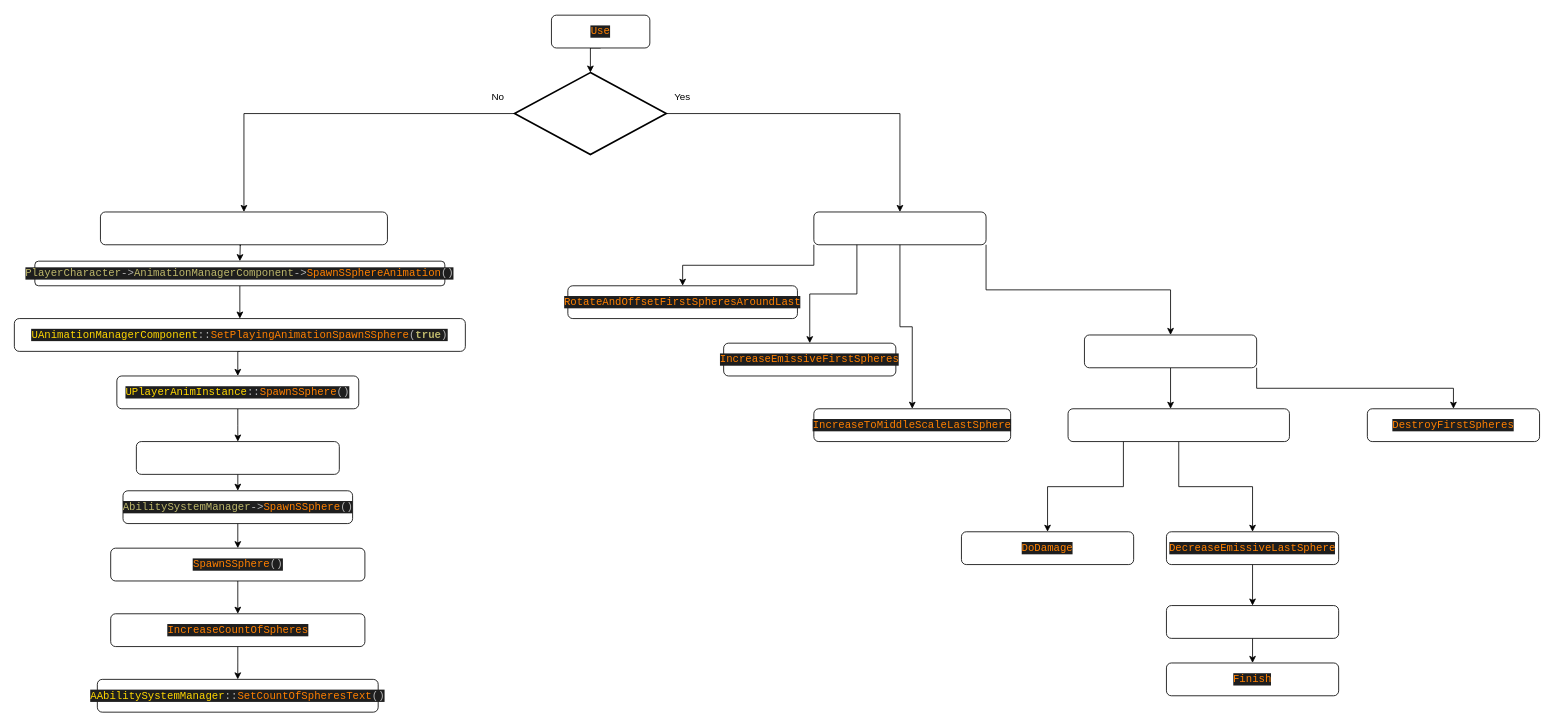
This 1554x727 diagram has some shape labels left out. Here are the shapes that lost their labels. From the top down, the centre of each, then its label:
At pixel 590 113: "CountOfSpheres == 7".
At pixel 243 228: "void AAbilitySystemManager :: UseSSphereAbility ()".
At pixel 899 228: "ActivateAbility".
At pixel 1170 351: "ActivateLastSphere".
At pixel 1178 425: "IncreaseScaleAndEmissiveLastSphere".
At pixel 237 457: "PlayerCharacter -> SpawnSSphere ()".
At pixel 1252 621: "DecreaseOpacityLastSphere".
